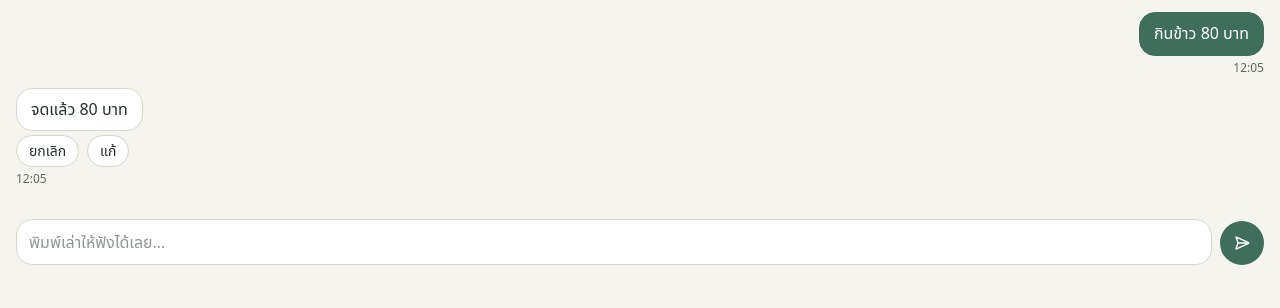
Test: undo failure keeps buttons and alerts
Click the button "ยกเลิก". click: click(48, 151)
box: [16,135,79,167]
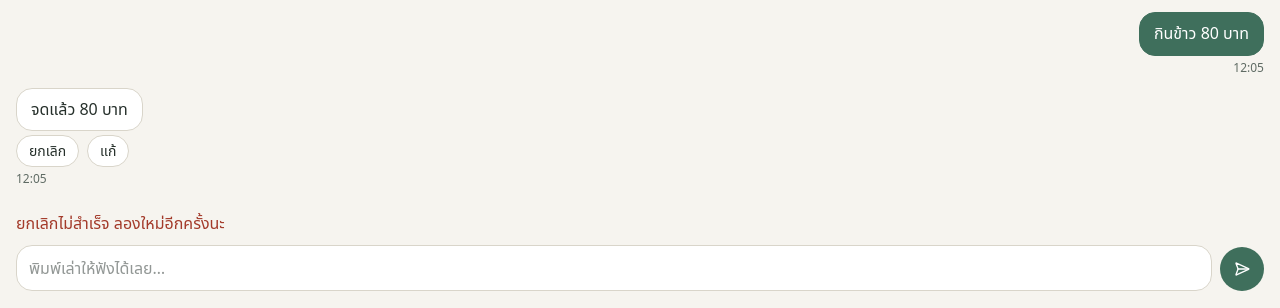
Expected: the button "แก้" is shown, [87,135,130,167]
Now the message "ยกเลิกไม่สำเร็จ ลองใหม่อีกครั้งนะ" is shown, box [16,212,225,234]
